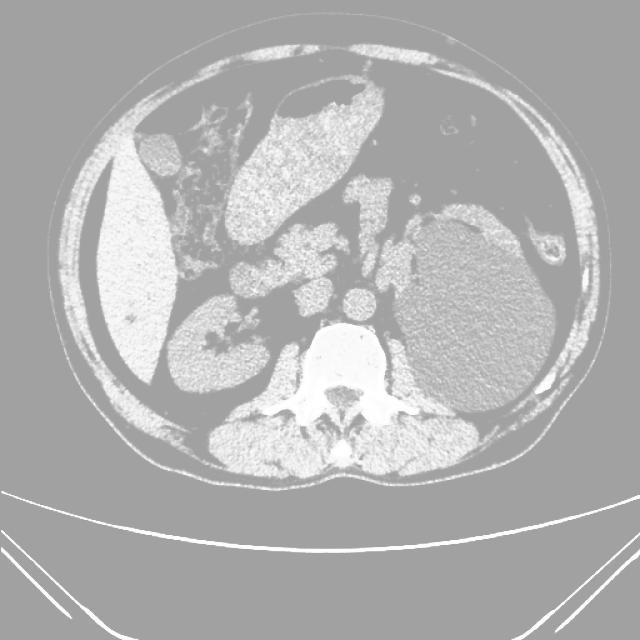cysts: (51, 33, 605, 489)
